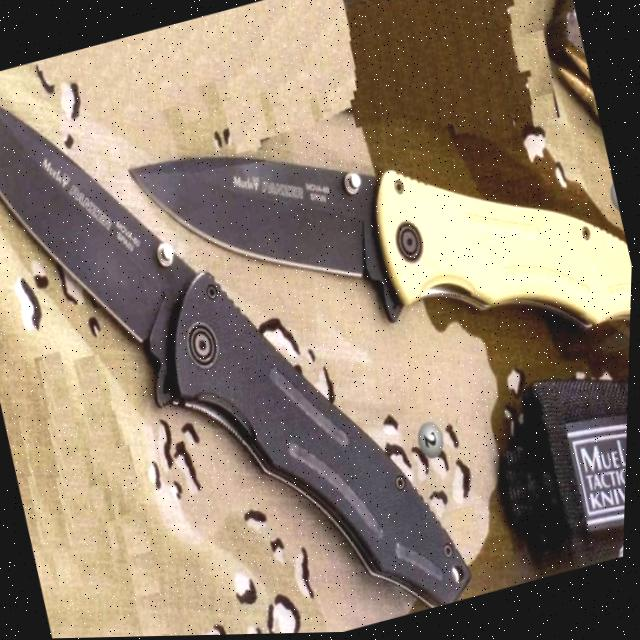knife: (0, 0, 492, 640), (70, 0, 640, 455)
